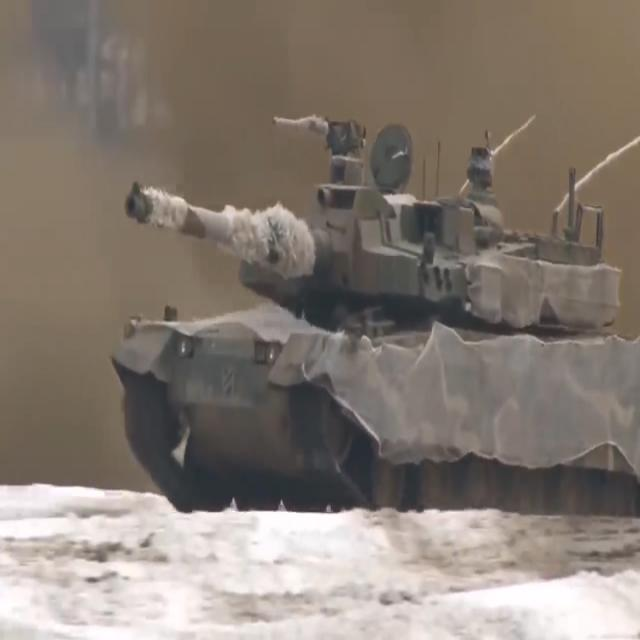korea tank: (107, 110, 640, 526)
